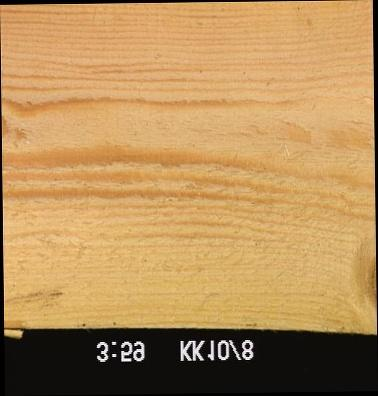sound_knot: (350, 241, 375, 325)
wave: (3, 315, 31, 330)
